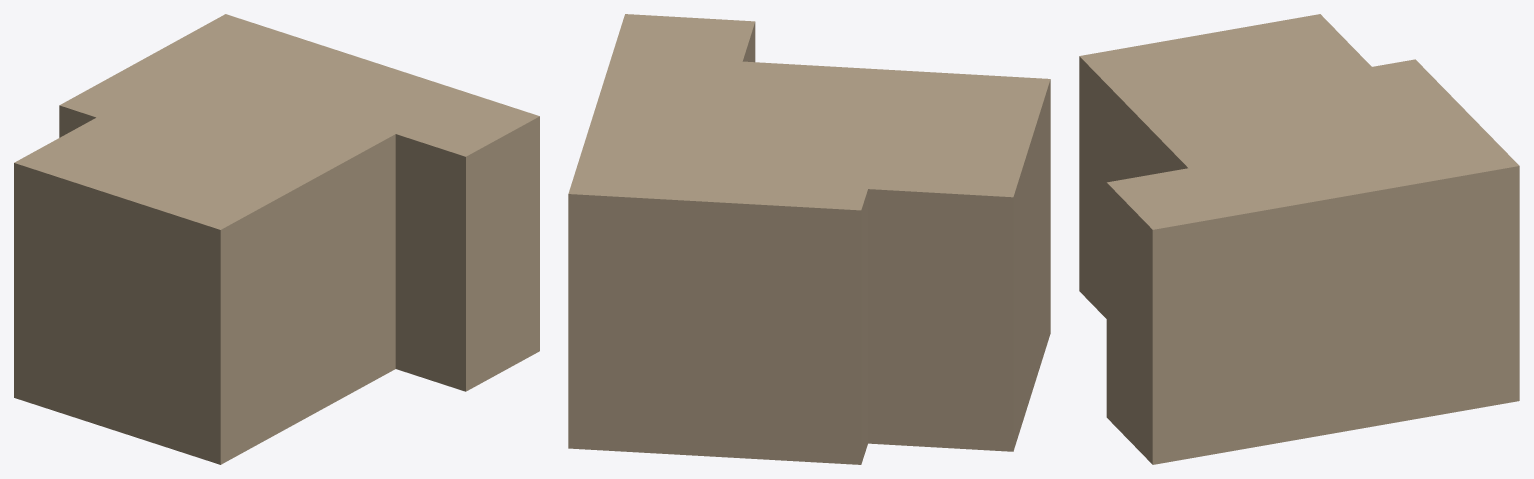
File: bld_101805887.dae
3 views of the same model, side by side, from view 1: azimuth 30°, elevation 25°; view 2: azimuth 150°, elevation 25°; view 3: azimuth 270°, elevation 25° (orthographic). The views are drawn at different scales.
Visible parts, largest first — view 1: bld_101805887; view 2: bld_101805887; view 3: bld_101805887.
Boxes of the visible parts, x1,y1,x2,y2 form: bld_101805887: (14, 14, 539, 464); bld_101805887: (568, 14, 1050, 464); bld_101805887: (1079, 14, 1519, 464).
Bounding box in the file's own units: 15.76 × 13.58 × 8.
